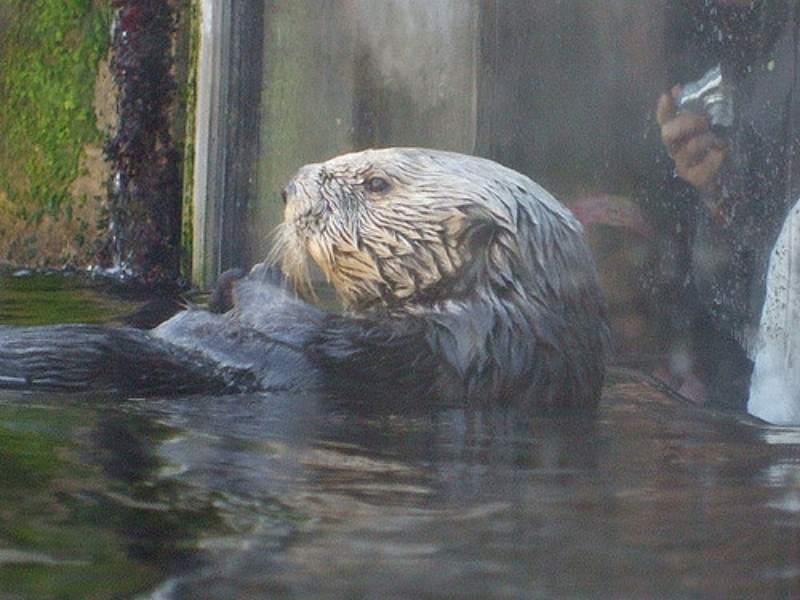minkish: (1, 140, 612, 434)
